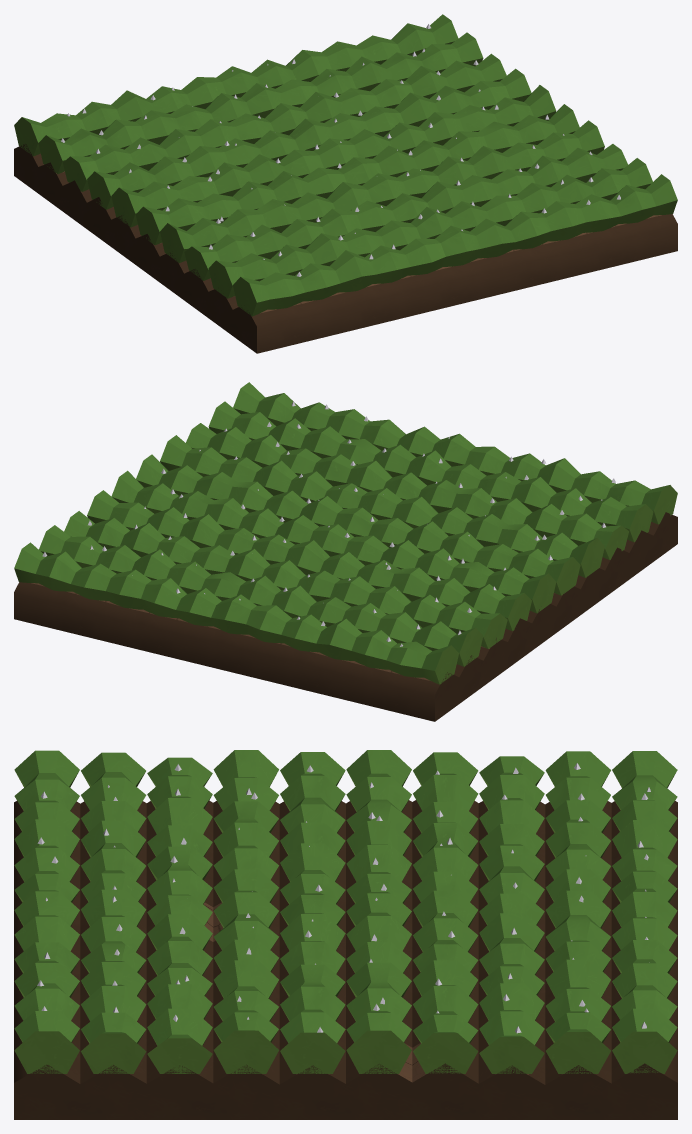
File: field_potato.glb
3 views of the same model, one above another, from view 1: azimuth 30°, elevation 25°; view 2: azimuth 150°, elevation 25°; view 3: azimuth 270°, elevation 25° (orthographic). The views are drawn at different scales.
Parts seen in each view (by area): view 1: field_potato; view 2: field_potato; view 3: field_potato.
Boxes of the visible parts, bbox=[...] form: field_potato: bbox=[14, 14, 677, 353]; field_potato: bbox=[14, 382, 677, 721]; field_potato: bbox=[14, 750, 677, 1119].
Bounding box in the file's own units: 8 × 1.2 × 8.
5 materials, 5 textured.
